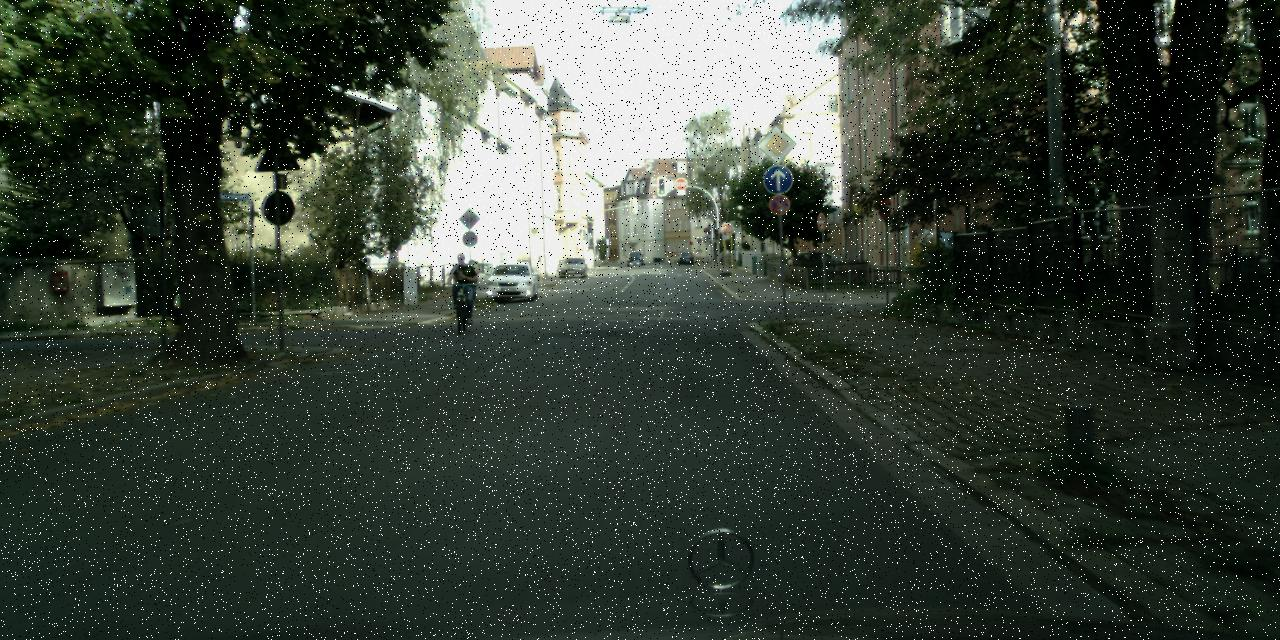ped: (448, 252, 474, 314)
